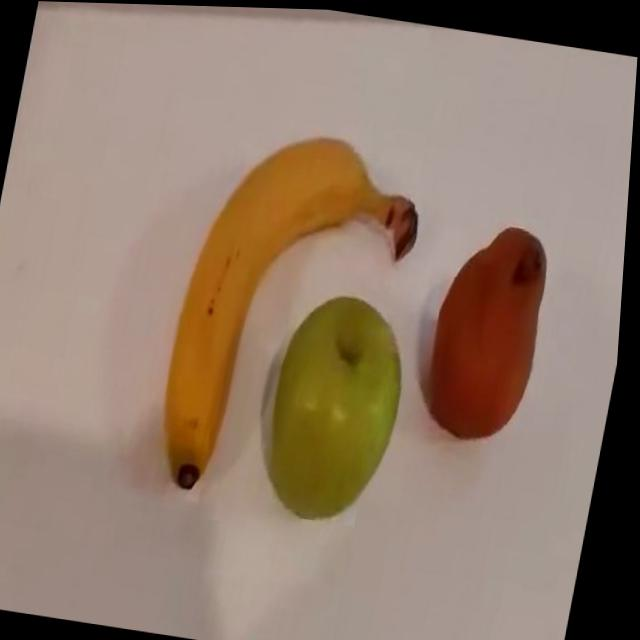Apple: (257, 283, 422, 528)
Banana: (152, 116, 436, 514)
